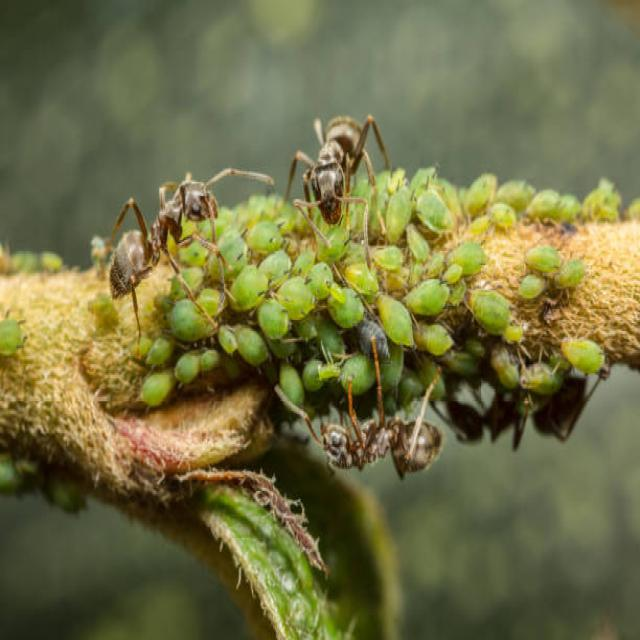Aphid-Grouped-: (168, 174, 555, 395)
Aphid-Grown-: (218, 250, 280, 324), (459, 272, 515, 350), (368, 290, 421, 359), (267, 268, 322, 329), (164, 293, 223, 349), (381, 175, 420, 255), (404, 272, 451, 328)
